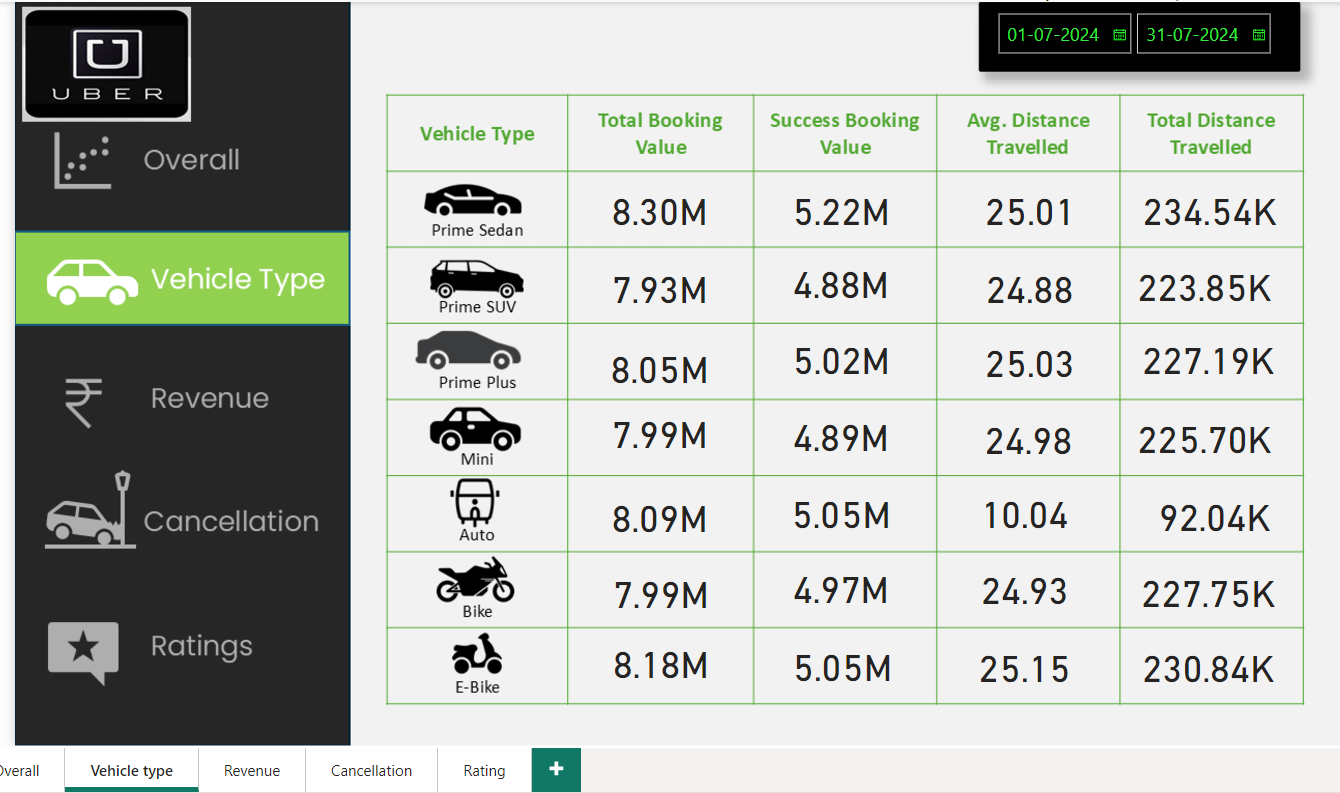

Layout of this report page (visuals, bound fields, positions):
{"tool":"powerbi","page":{"name":"Vehicle type","canvas":[1280,720],"ordinal":1},"visuals":[{"type":"actionButton","box":[0,333,324.5,100.1],"z":0},{"type":"actionButton","box":[1.2,118.2,324.5,100.1],"z":1000},{"type":"actionButton","box":[0,446.4,324.5,100.1],"z":2000},{"type":"actionButton","box":[0,569.4,324.5,100.1],"z":3000},{"type":"card","fields":{"Values":["Sum(July.Booking_Value)"]},"box":[540.2,168.2,163.9,64.1],"z":4000},{"type":"card","fields":{"Values":["Sum(July.Booking_Value)"]},"box":[540.2,242.3,163.9,64.1],"z":5000},{"type":"card","fields":{"Values":["Sum(July.Booking_Value)"]},"box":[540.2,319.3,163.9,64.1],"z":6000},{"type":"card","fields":{"Values":["Sum(July.Booking_Value)"]},"box":[540.2,382,163.9,64.1],"z":7000},{"type":"card","fields":{"Values":["Sum(July.Booking_Value)"]},"box":[540.2,463.3,163.9,64.1],"z":8000},{"type":"card","fields":{"Values":["Sum(July.Booking_Value)"]},"box":[541.6,537.4,163.9,64.1],"z":9000},{"type":"card","fields":{"Values":["Sum(July.Booking_Value)"]},"box":[541.6,604.4,163.9,64.1],"z":10000},{"type":"card","fields":{"Values":["Sum(July.Booking_Value)"]},"box":[715.5,168.2,163.9,64.1],"z":11000},{"type":"card","fields":{"Values":["Sum(July.Booking_Value)"]},"box":[715.5,232.3,163.9,74.1],"z":12000},{"type":"card","fields":{"Values":["Sum(July.Booking_Value)"]},"box":[715.5,306.5,163.9,74.1],"z":13000},{"type":"card","fields":{"Values":["Sum(July.Booking_Value)"]},"box":[715.5,380.6,163.9,74.1],"z":14000},{"type":"card","fields":{"Values":["Sum(July.Booking_Value)"]},"box":[715.5,454.7,163.9,74.1],"z":15000},{"type":"card","fields":{"Values":["Sum(July.Booking_Value)"]},"box":[715.5,527.4,163.9,74.1],"z":16000},{"type":"card","fields":{"Values":["Sum(July.Booking_Value)"]},"box":[717,601.5,163.9,74.1],"z":17000},{"type":"card","fields":{"Values":["Avg(July.Ride_Distance)"]},"box":[892.3,168.2,173.9,64.1],"z":18000},{"type":"card","fields":{"Values":["Avg(July.Ride_Distance)"]},"box":[898,238,163.9,74.1],"z":19000},{"type":"card","fields":{"Values":["Avg(July.Ride_Distance)"]},"box":[898,309.3,163.9,74.1],"z":20000},{"type":"card","fields":{"Values":["Avg(July.Ride_Distance)"]},"box":[896.6,383.4,163.9,74.1],"z":21000},{"type":"card","fields":{"Values":["Avg(July.Ride_Distance)"]},"box":[892.3,454.7,163.9,74.1],"z":22000},{"type":"card","fields":{"Values":["Avg(July.Ride_Distance)"]},"box":[892.3,528.8,163.9,74.1],"z":23000},{"type":"card","fields":{"Values":["Avg(July.Ride_Distance)"]},"box":[892.3,602.9,163.9,74.1],"z":24000},{"type":"card","fields":{"Values":["Sum(July.Ride_Distance)"]},"box":[1066.2,168.2,173.9,64.1],"z":25000},{"type":"card","fields":{"Values":["Sum(July.Ride_Distance)"]},"box":[1066.2,235.2,163.9,74.1],"z":26000},{"type":"card","fields":{"Values":["Sum(July.Ride_Distance)"]},"box":[1070.5,306.5,163.9,74.1],"z":27000},{"type":"card","fields":{"Values":["Sum(July.Ride_Distance)"]},"box":[1066.2,382,163.9,74.1],"z":28000},{"type":"card","fields":{"Values":["Sum(July.Ride_Distance)"]},"box":[1076.2,457.6,163.9,74.1],"z":29000},{"type":"card","fields":{"Values":["Sum(July.Ride_Distance)"]},"box":[1070.5,530.2,163.9,74.1],"z":30000},{"type":"card","fields":{"Values":["Sum(July.Ride_Distance)"]},"box":[1070.5,602.9,163.9,74.1],"z":31000},{"type":"slicer","title":"Date","fields":{"Values":["July.Date"]},"box":[930.4,0,310.1,67.2],"z":32000}]}

Visuals, with their boxes on the page's 1280x720 design canvas (x1, y1, x2, y2). These are canvas units, not pixel positions in the 1340x793 screenshot, which may show the page scaled, cropped or inside an application window:
actionButton: crop(0, 333, 324, 433)
actionButton: crop(1, 118, 326, 218)
actionButton: crop(0, 446, 324, 546)
actionButton: crop(0, 569, 324, 670)
card - Sum(July.Booking_Value): crop(540, 168, 704, 232)
card - Sum(July.Booking_Value): crop(540, 242, 704, 306)
card - Sum(July.Booking_Value): crop(540, 319, 704, 383)
card - Sum(July.Booking_Value): crop(540, 382, 704, 446)
card - Sum(July.Booking_Value): crop(540, 463, 704, 527)
card - Sum(July.Booking_Value): crop(542, 537, 706, 602)
card - Sum(July.Booking_Value): crop(542, 604, 706, 668)
card - Sum(July.Booking_Value): crop(716, 168, 879, 232)
card - Sum(July.Booking_Value): crop(716, 232, 879, 306)
card - Sum(July.Booking_Value): crop(716, 306, 879, 381)
card - Sum(July.Booking_Value): crop(716, 381, 879, 455)
card - Sum(July.Booking_Value): crop(716, 455, 879, 529)
card - Sum(July.Booking_Value): crop(716, 527, 879, 602)
card - Sum(July.Booking_Value): crop(717, 602, 881, 676)
card - Avg(July.Ride_Distance): crop(892, 168, 1066, 232)
card - Avg(July.Ride_Distance): crop(898, 238, 1062, 312)
card - Avg(July.Ride_Distance): crop(898, 309, 1062, 383)
card - Avg(July.Ride_Distance): crop(897, 383, 1060, 458)
card - Avg(July.Ride_Distance): crop(892, 455, 1056, 529)
card - Avg(July.Ride_Distance): crop(892, 529, 1056, 603)
card - Avg(July.Ride_Distance): crop(892, 603, 1056, 677)
card - Sum(July.Ride_Distance): crop(1066, 168, 1240, 232)
card - Sum(July.Ride_Distance): crop(1066, 235, 1230, 309)
card - Sum(July.Ride_Distance): crop(1070, 306, 1234, 381)
card - Sum(July.Ride_Distance): crop(1066, 382, 1230, 456)
card - Sum(July.Ride_Distance): crop(1076, 458, 1240, 532)
card - Sum(July.Ride_Distance): crop(1070, 530, 1234, 604)
card - Sum(July.Ride_Distance): crop(1070, 603, 1234, 677)
"Date" slicer: crop(930, 0, 1240, 67)
